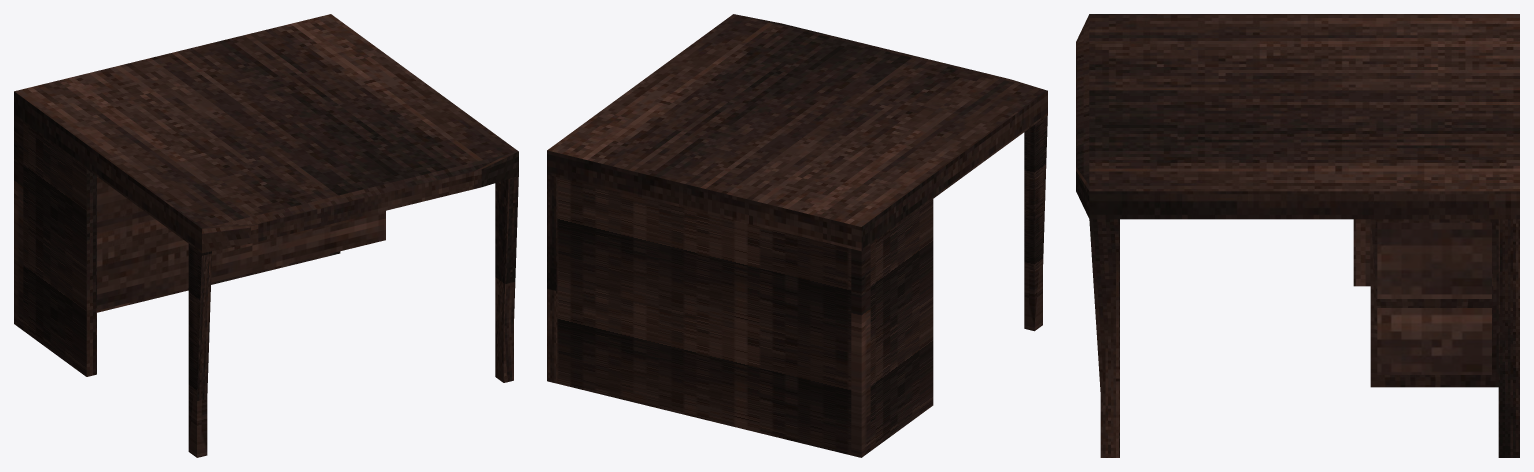
The model's file is Table.fbx.
The picture shows the model from 3 angles, left to right: view 1: azimuth 30°, elevation 25°; view 2: azimuth 150°, elevation 25°; view 3: azimuth 270°, elevation 25°; orthographic projection. The views are drawn at different scales.
Parts seen in each view (by area): view 1: Table; view 2: Table; view 3: Table.
Part boxes in pixels (left/top/right/bottom): Table: left=14, top=14, right=518, bottom=457; Table: left=547, top=14, right=1047, bottom=457; Table: left=1076, top=14, right=1519, bottom=457.
Size of the model in its own units: 200 by 140 by 212.
1 material, 1 textured.
